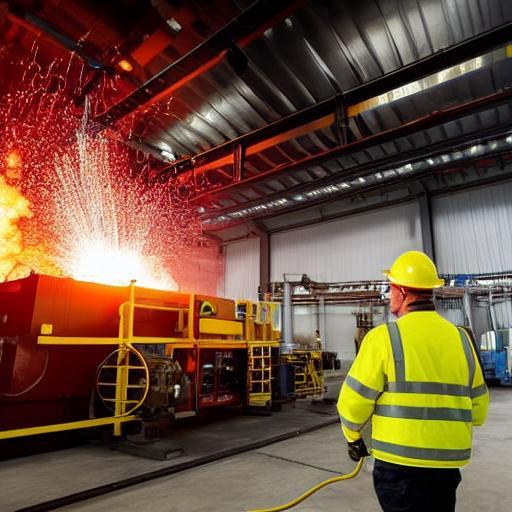fire: (1, 8, 267, 325)
